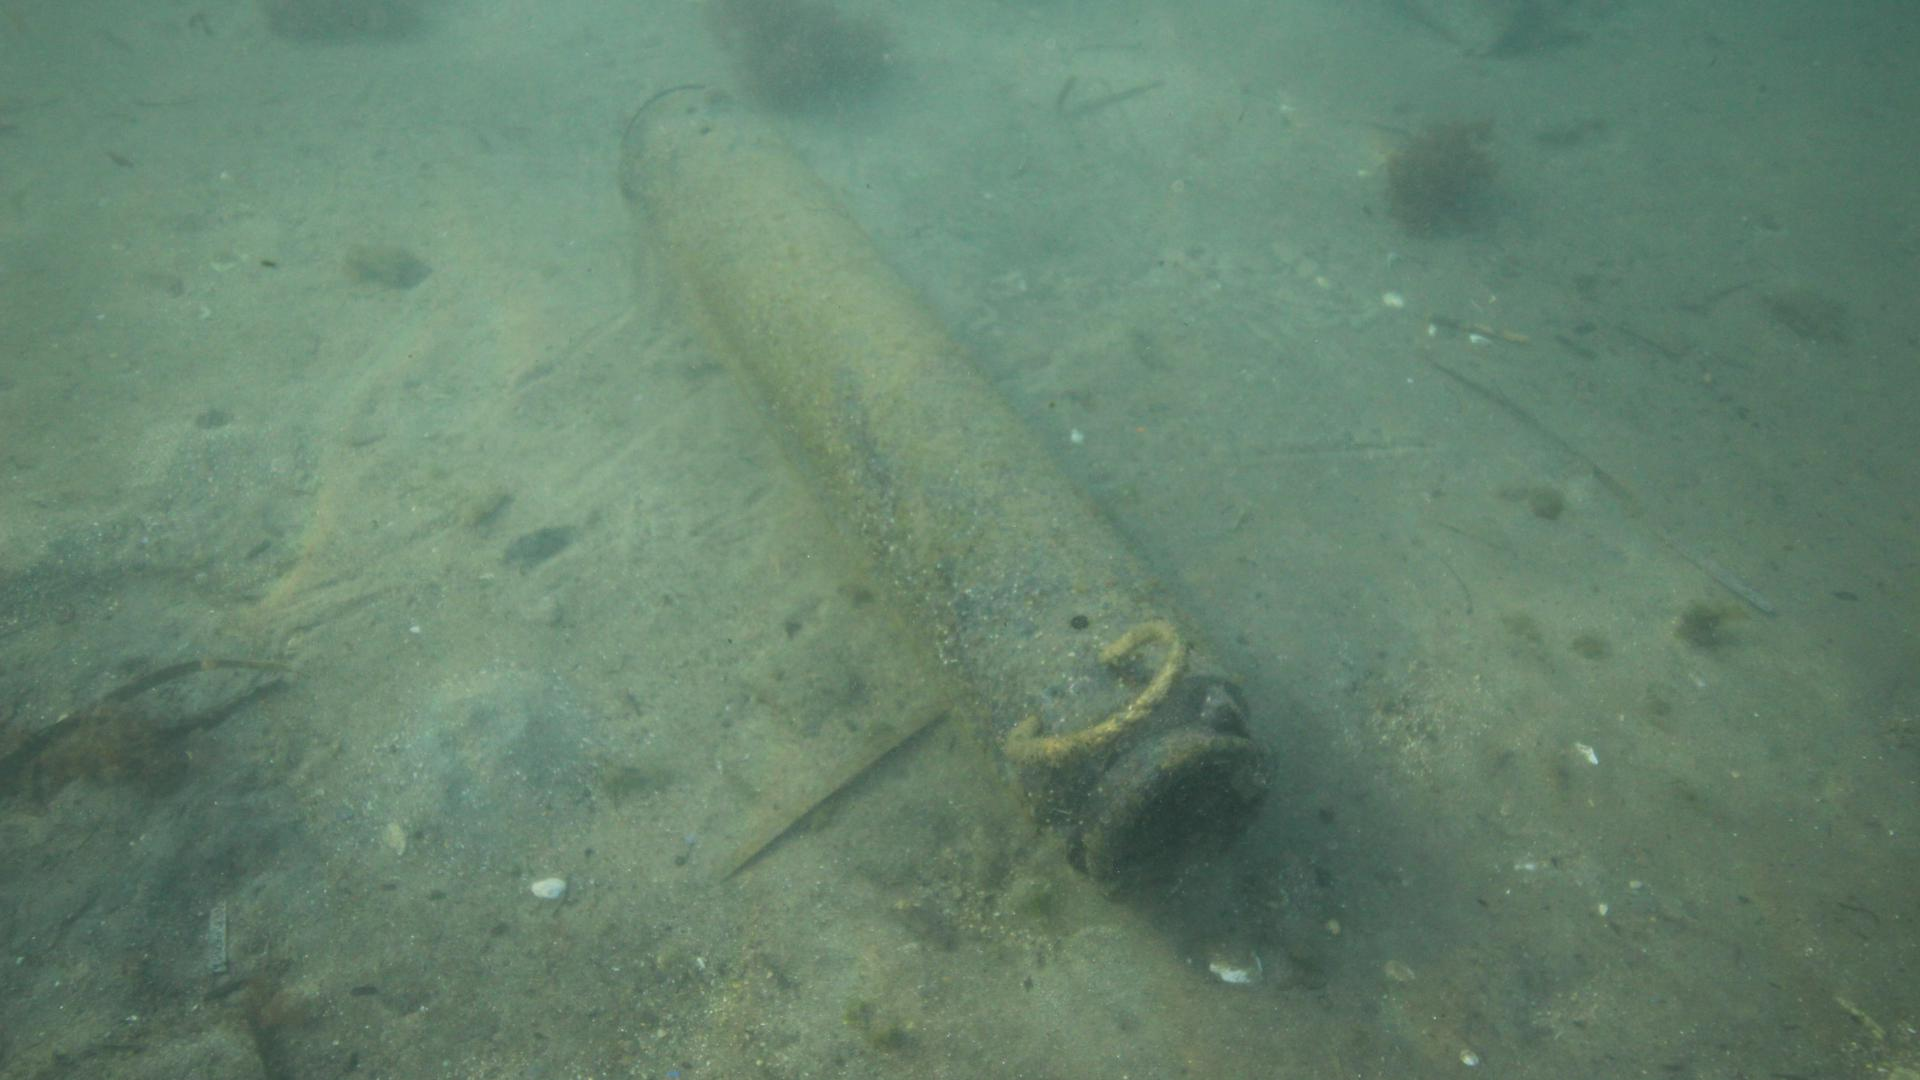eel fish trap: (612, 82, 1279, 906)
rope: (1000, 615, 1192, 770)
